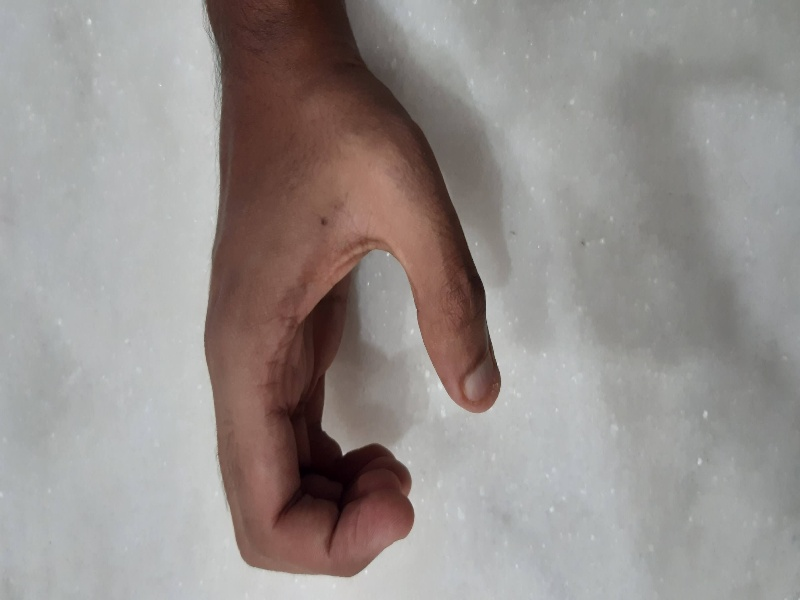one: (193, 62, 513, 584)
